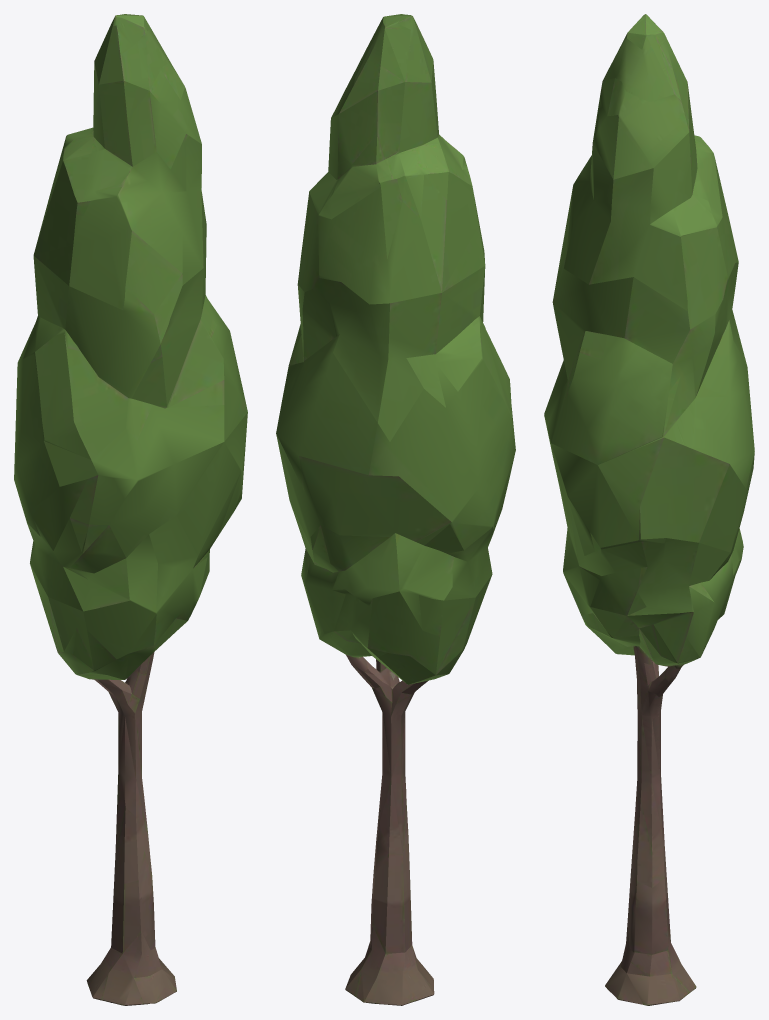
File: tree-thin.glb
3 views of the same model, side by side, from view 1: azimuth 30°, elevation 25°; view 2: azimuth 150°, elevation 25°; view 3: azimuth 270°, elevation 25° (orthographic).
Visible parts, largest first — view 1: nature-tree-thin-fit; view 2: nature-tree-thin-fit; view 3: nature-tree-thin-fit.
Part boxes in pixels (left/top/right/bottom): nature-tree-thin-fit: left=14, top=14, right=247, bottom=1005; nature-tree-thin-fit: left=276, top=14, right=515, bottom=1005; nature-tree-thin-fit: left=544, top=14, right=754, bottom=1005.
Size of the model in its own units: 1.02 by 4.65 by 0.9208.
1 material, 1 textured.
